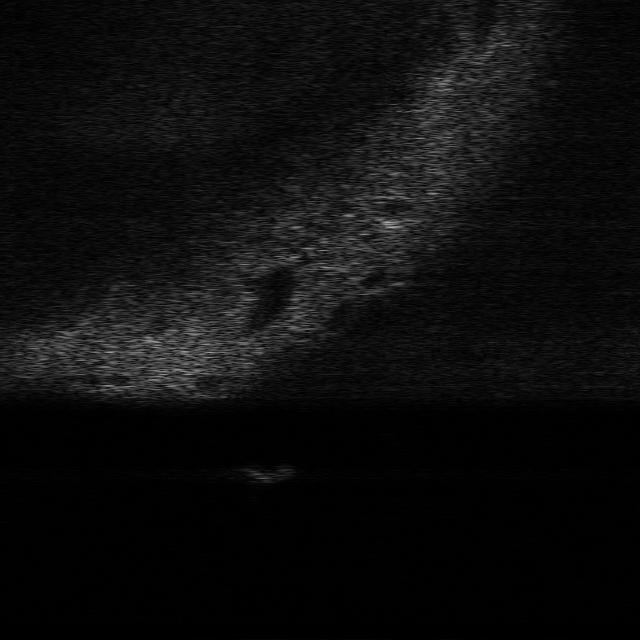cube: (239, 462, 295, 484)
